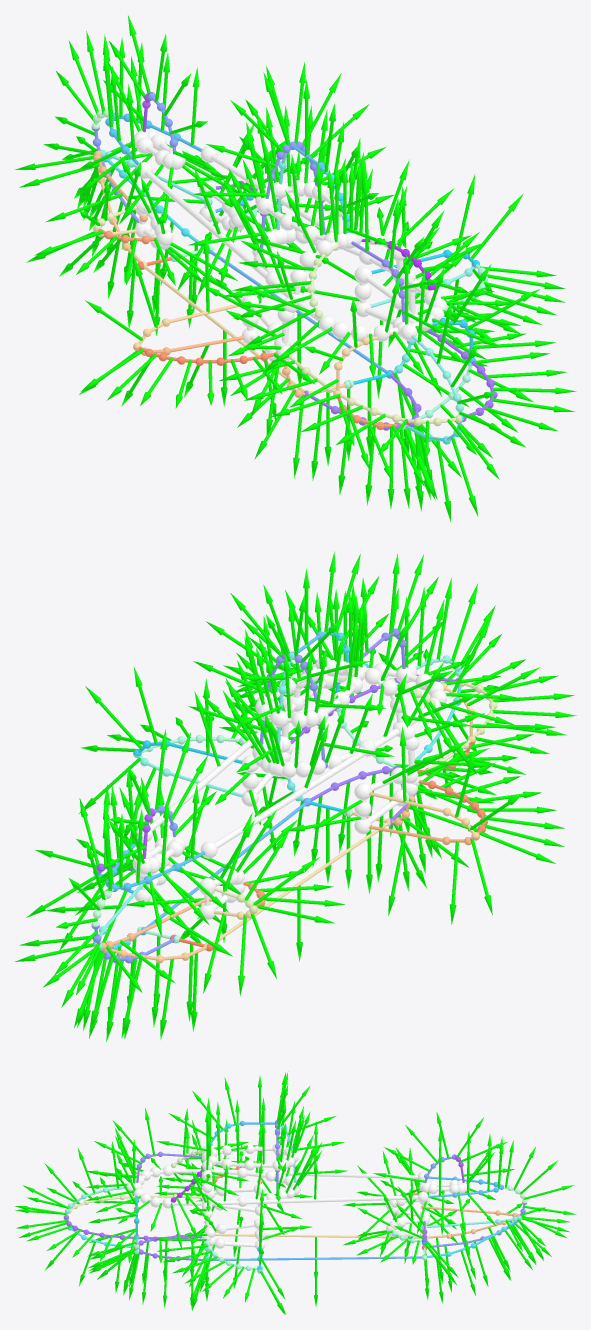
Rendered from scaffolds3d_submarine.gltf.
The picture shows the model from 3 angles, top to bottom: view 1: azimuth 30°, elevation 25°; view 2: azimuth 150°, elevation 25°; view 3: azimuth 270°, elevation 25°; orthographic projection. The views are drawn at different scales.
Size of the model in its own units: 0.643 by 0.4546 by 1.05.
